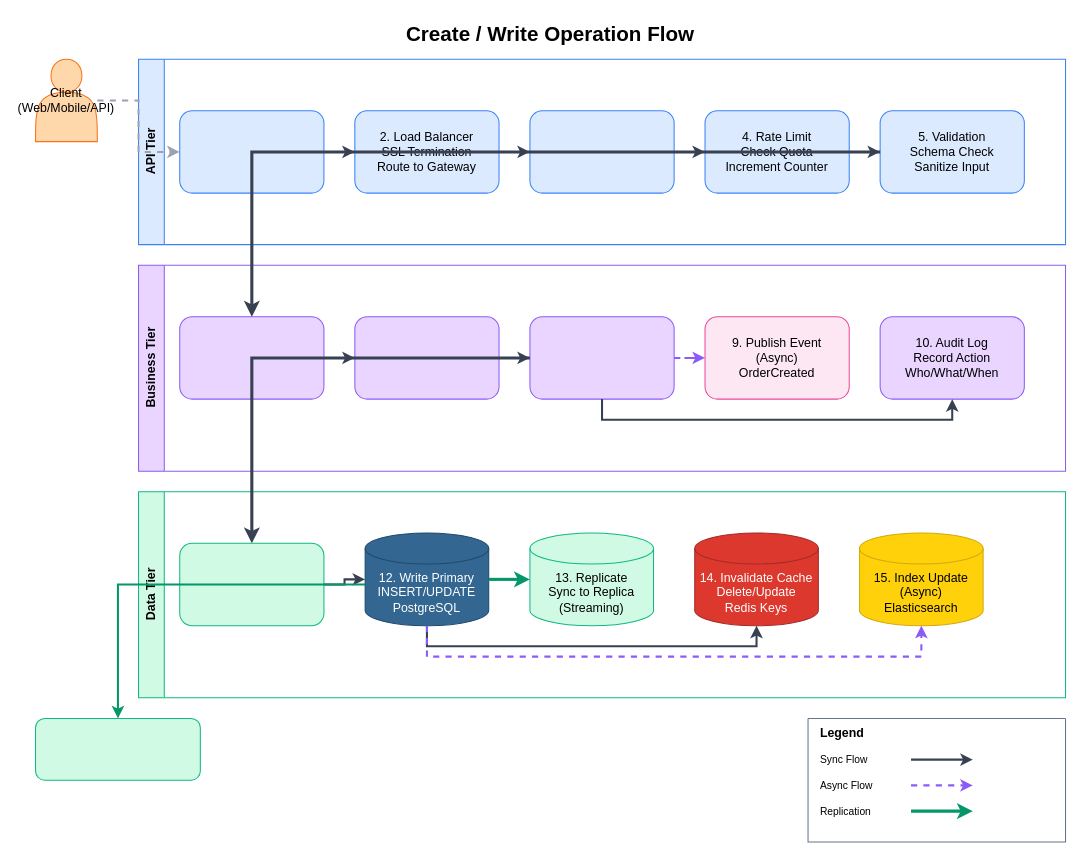
The diagram is 1084 pixels wide and 860 high, and some of its shapes have lost their labels. The centre of each missing label's shape, as x and y in pixels:
"1. HTTPS Request POST /api/resource + Auth Token" belongs at pixel 251 151.
"11. Connection Pool Get Connection PgBouncer" belongs at pixel 251 584.
"16. HTTP 201 Created {id, created_at, ...}" belongs at pixel 117 748.
"3. Auth Check JWT Validation RBAC Permission" belongs at pixel 601 151.
"6. Service Router Find Target Service Load Balance" belongs at pixel 251 357.
"7. Business Logic Apply Rules Transform Data" belongs at pixel 426 357.
"8. Transaction Begin TX Prepare Writes" belongs at pixel 601 357.
